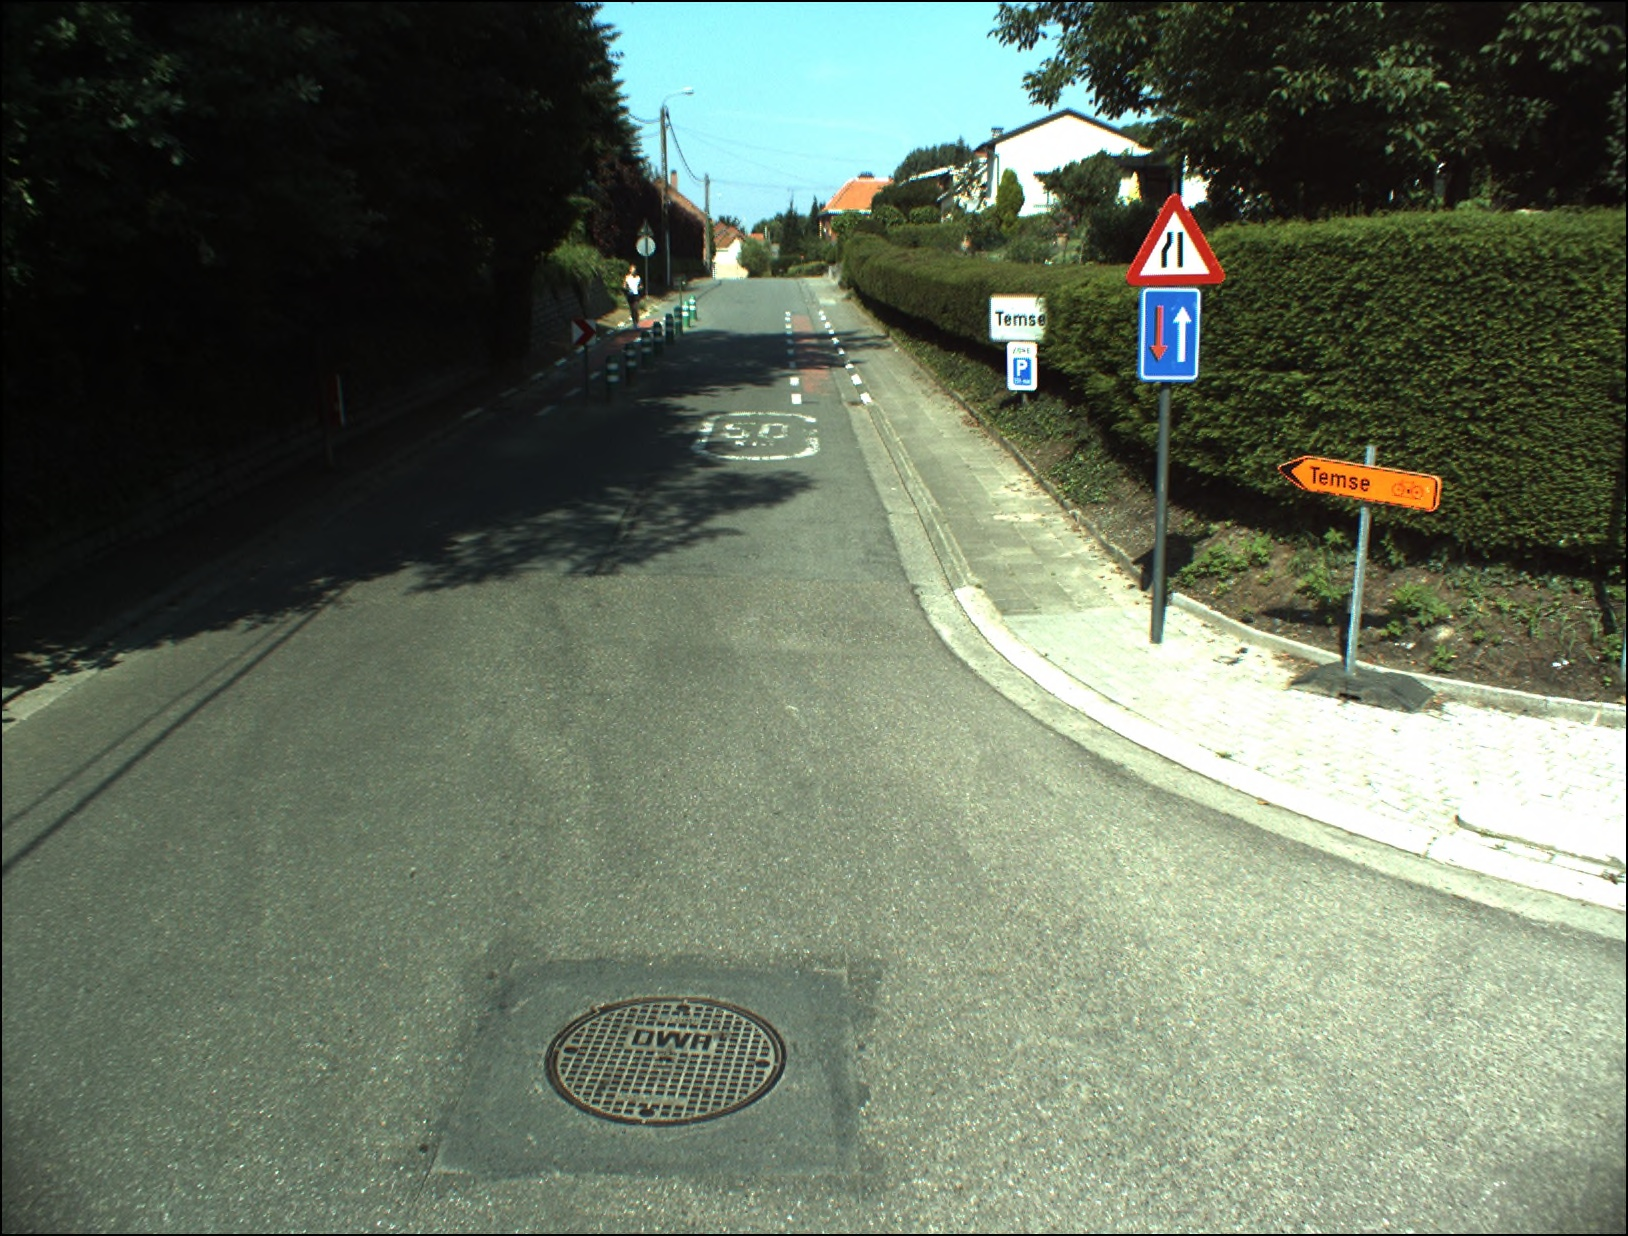parking: (1013, 353, 1036, 386)
roadnarrow1: (1139, 290, 1197, 380)
